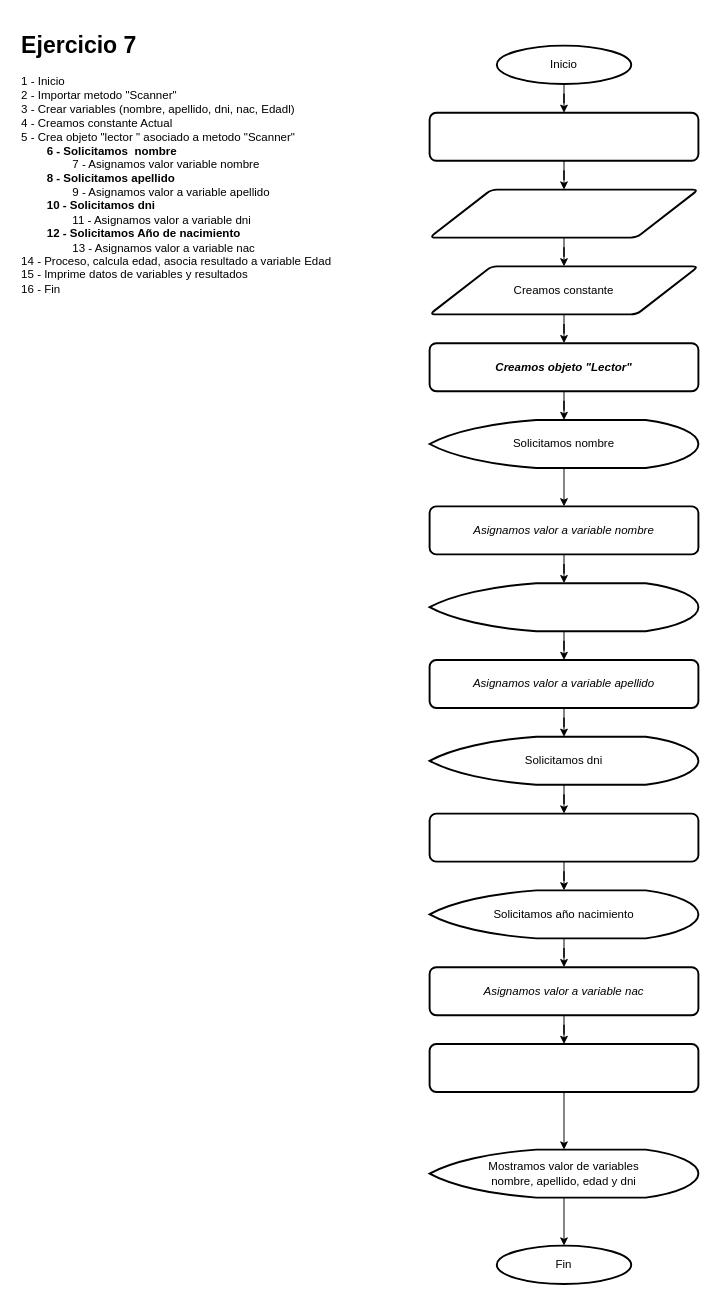
This 715x1301 diagram has some shape labels left out. The shapes that lost their labels are listed below. From the top down, each one's centre as x and y in pixels, then its label:
At (x=563, y=136): "Importamos metodo Scanner".
At (x=563, y=213): "Creamos variables nombre, apellido, dni, nac y Edad".
At (x=563, y=607): "Solicitamos apellido".
At (x=563, y=837): "Asignamos valor a variable dni".
At (x=563, y=1067): "Calculamos edad. Resultado a variable Edad".
